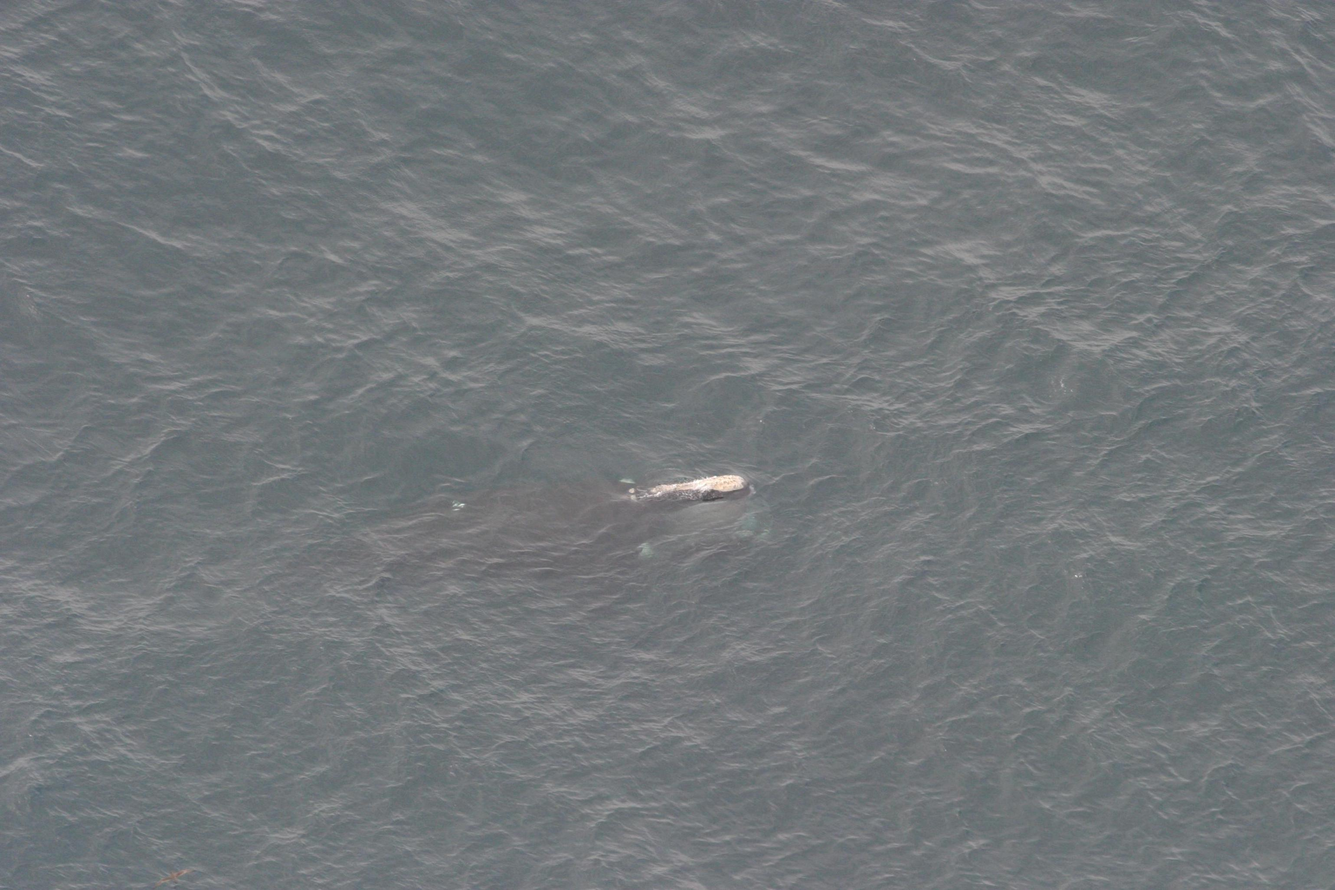whale: (417, 462, 783, 630)
